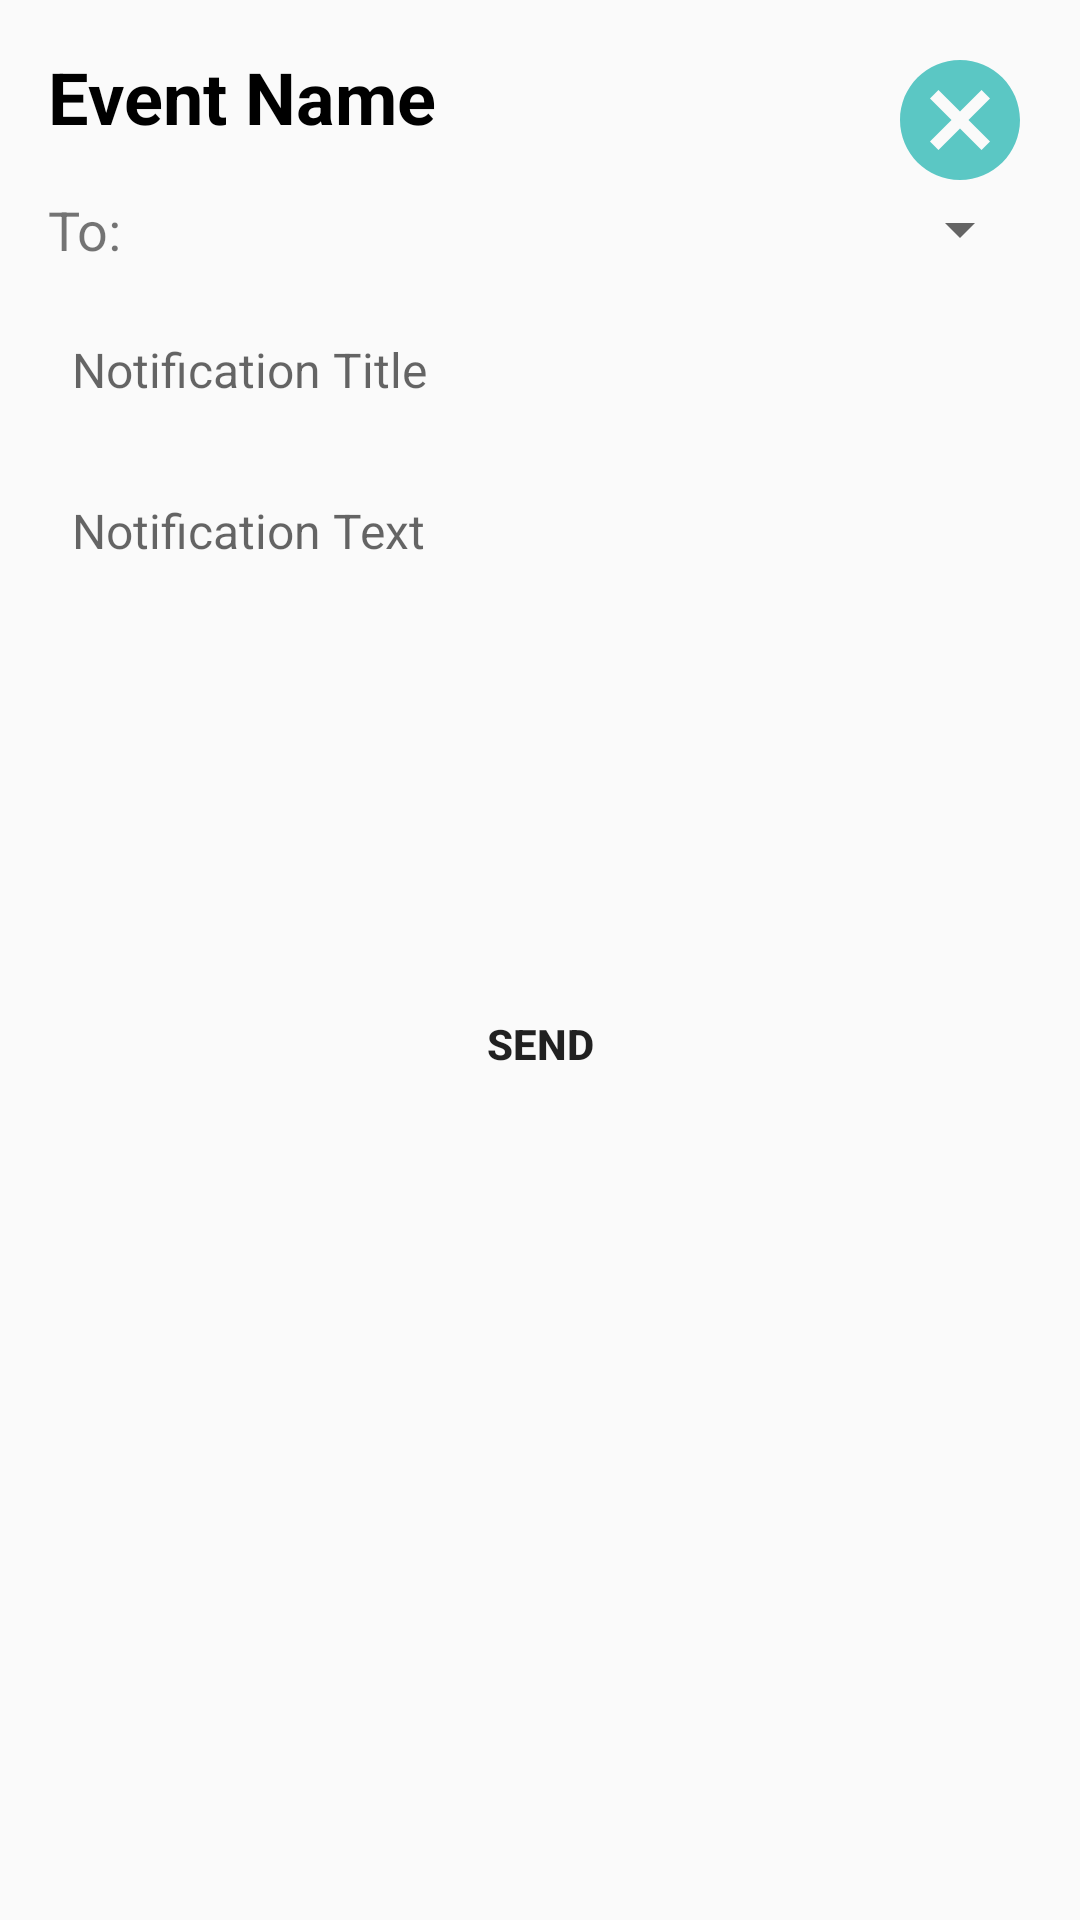

Locate icon controls on the screen. Image size 1080 x 1920, boxes as (x1, y1, x2, y2).
cancel: (900, 60, 1020, 180)
